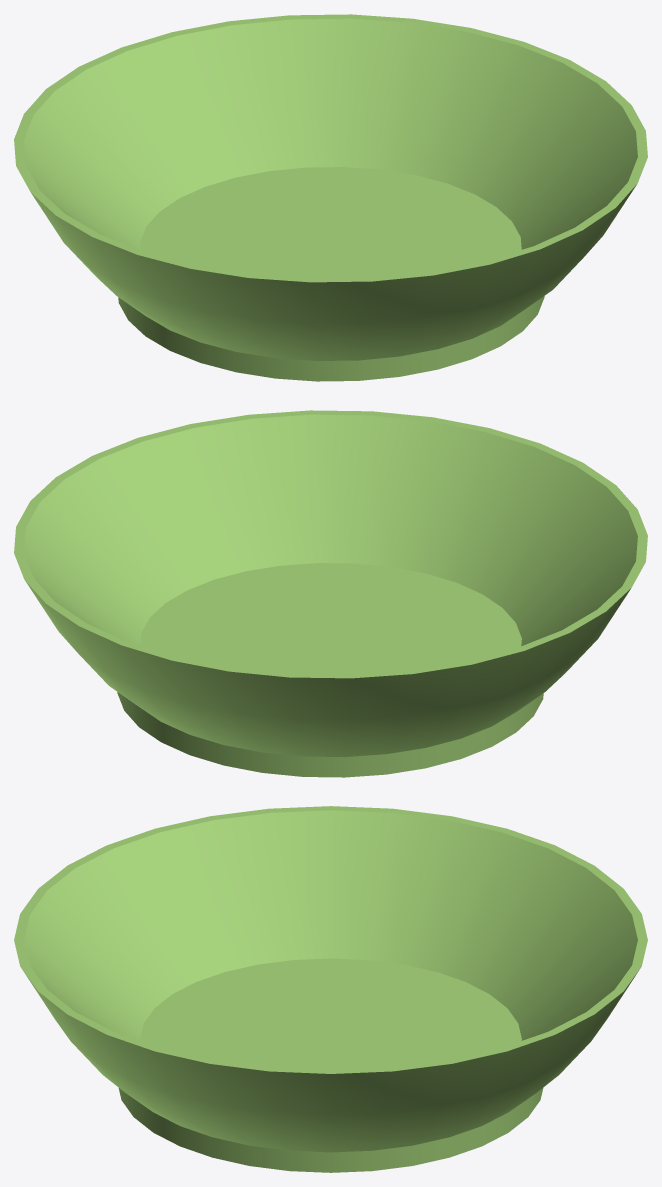
Rendered from Kitchen Bowl.003.fbx.
3 renders of one model, top to bottom at view 1: azimuth 30°, elevation 25°; view 2: azimuth 150°, elevation 25°; view 3: azimuth 270°, elevation 25°, orthographic.
Parts seen in each view (by area): view 1: Kitchen Bowl.003_Baked; view 2: Kitchen Bowl.003_Baked; view 3: Kitchen Bowl.003_Baked.
Boxes of the visible parts, box(x1,y1,x2,y2) form: Kitchen Bowl.003_Baked: box(14, 14, 647, 381); Kitchen Bowl.003_Baked: box(14, 410, 647, 777); Kitchen Bowl.003_Baked: box(14, 806, 647, 1172).
Bounding box in the file's own units: 31.4 × 7.79 × 31.4.
Materials: 1 (1 with a texture image).
